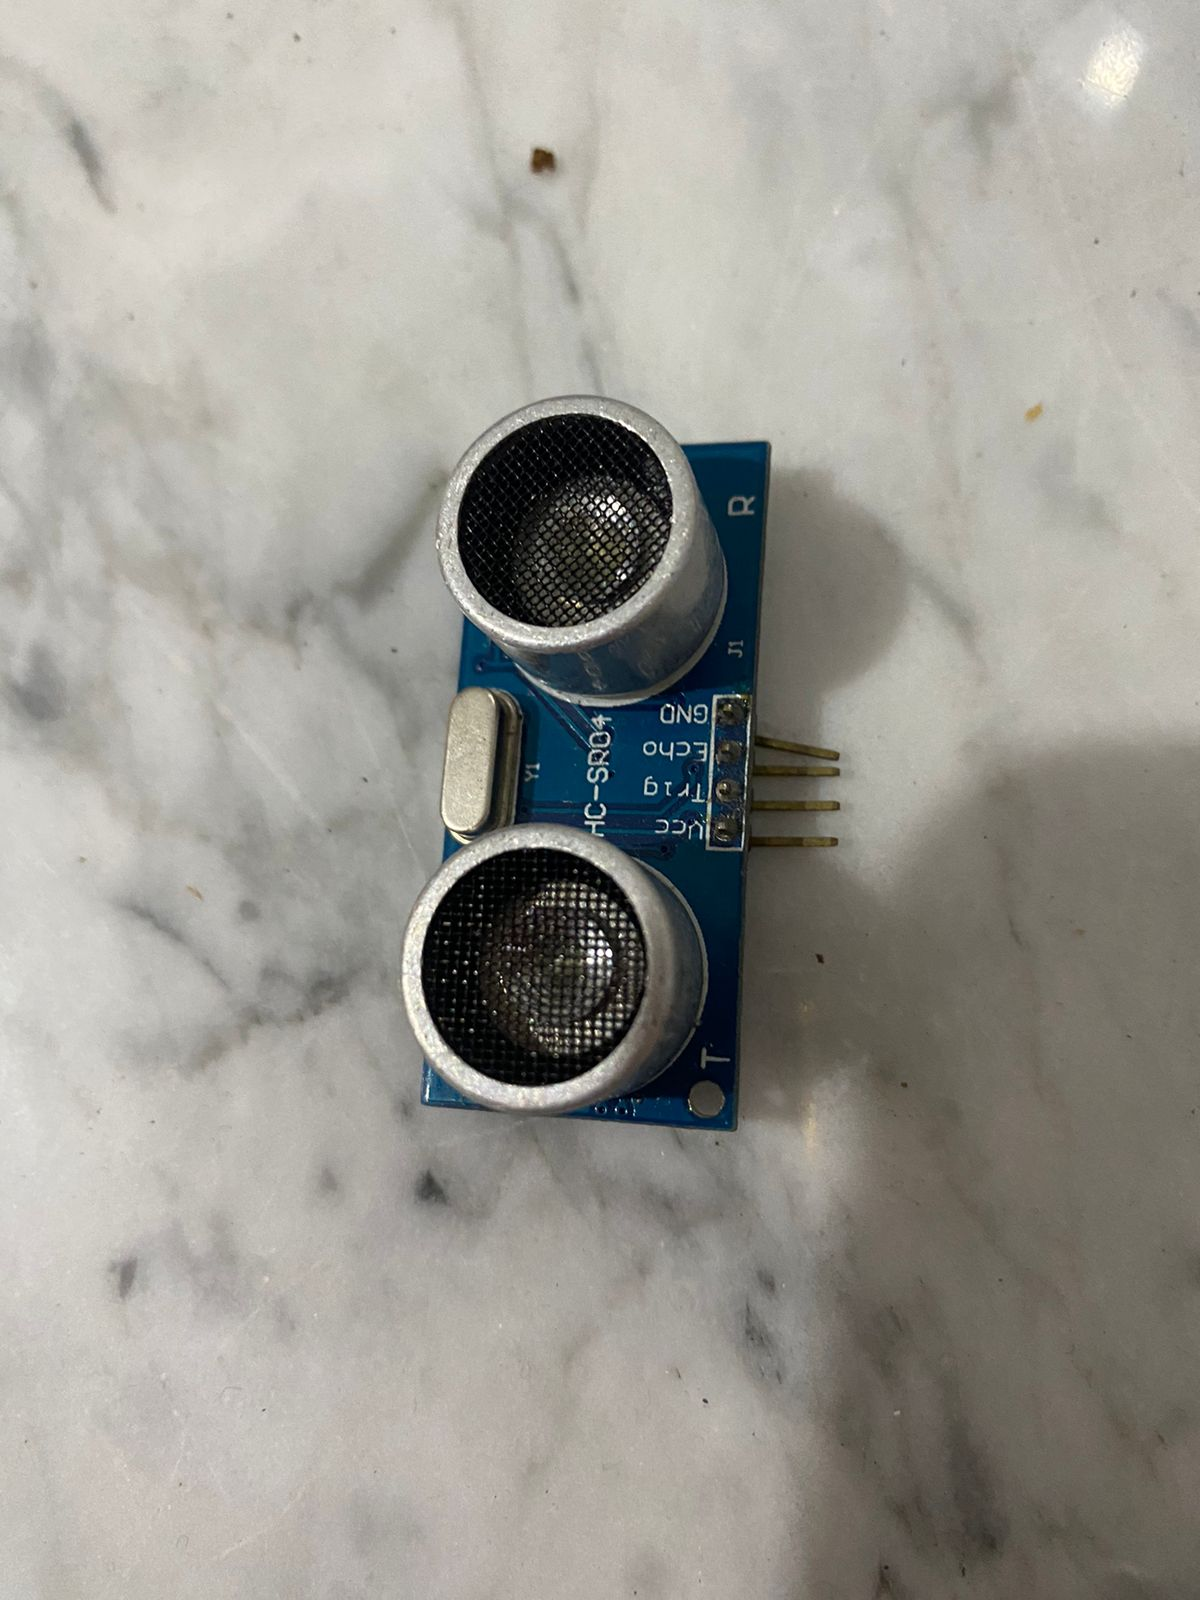capteur-ultrasonique: (397, 401, 865, 1134)
